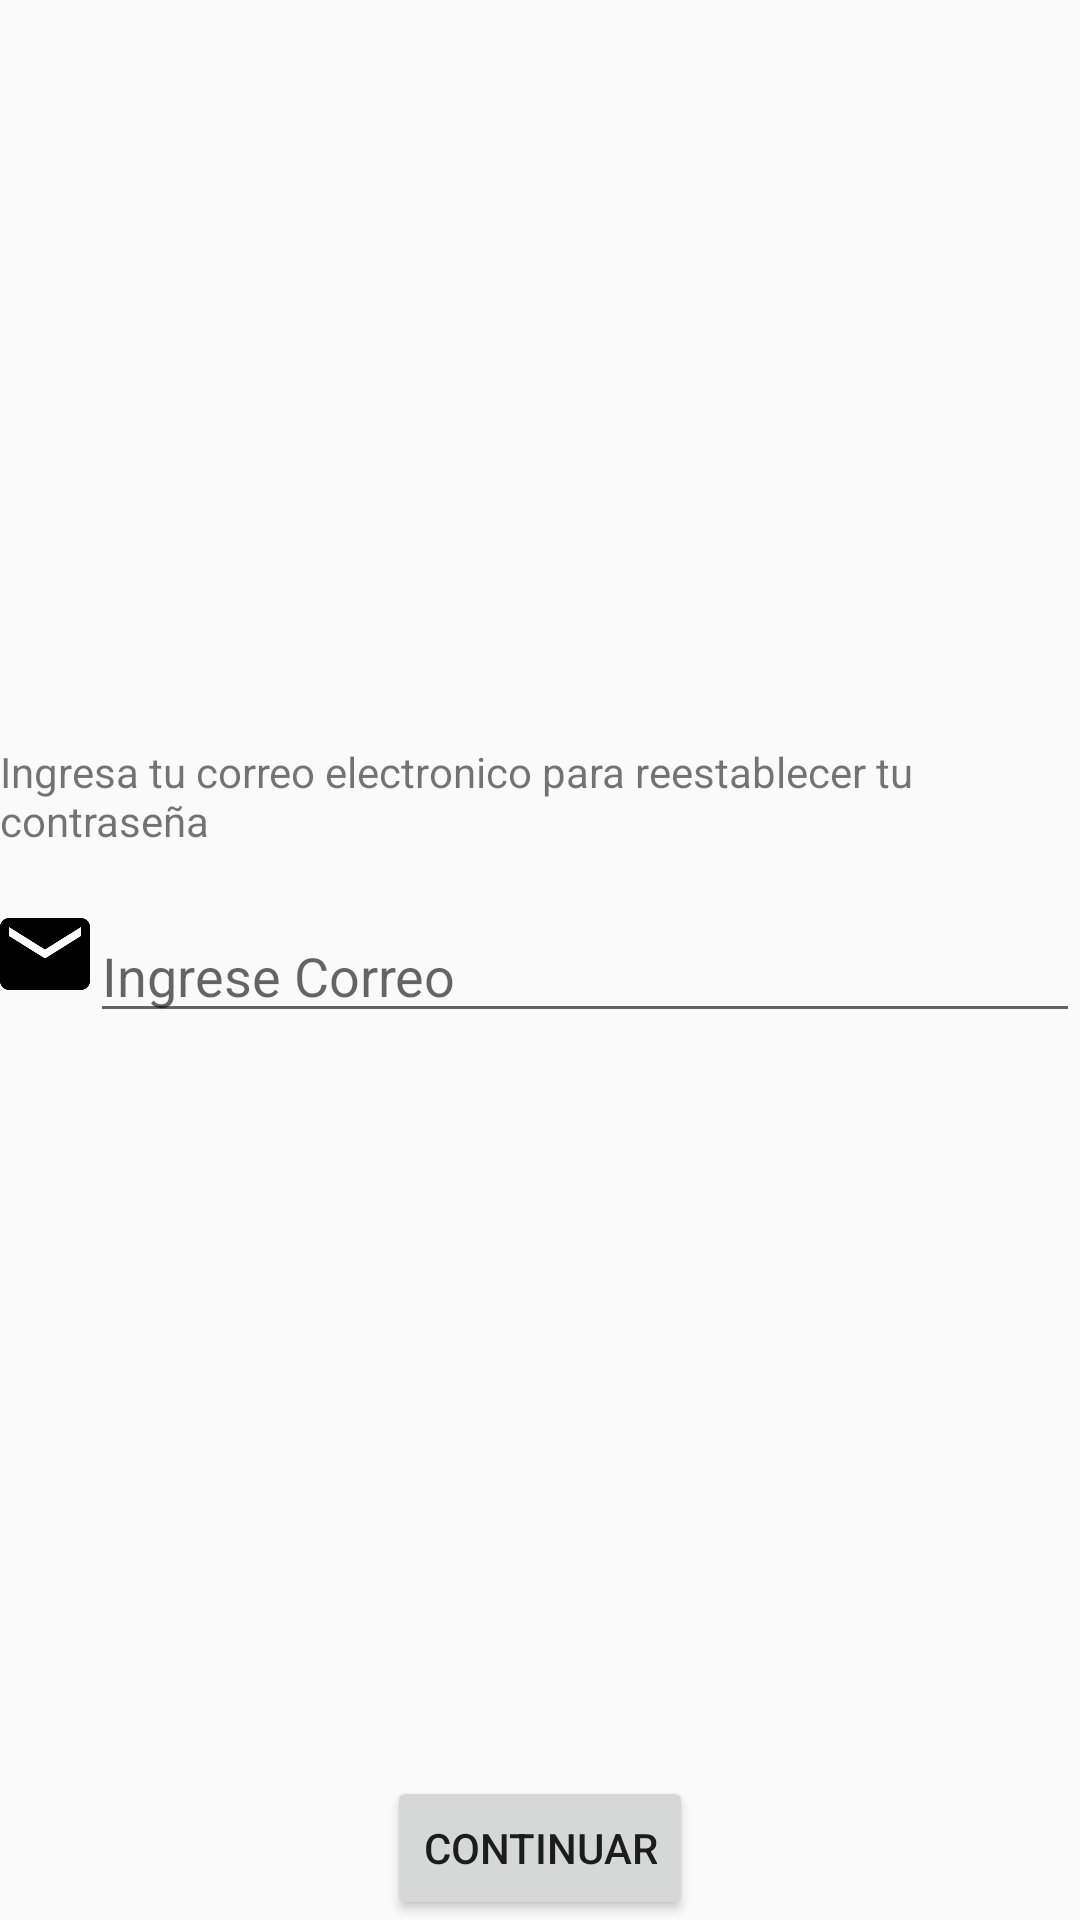

Screen size 1080 x 1920. Icon name, then its box in pixels as box(x1, y1, x2, y2):
email: box(0, 918, 90, 990)
